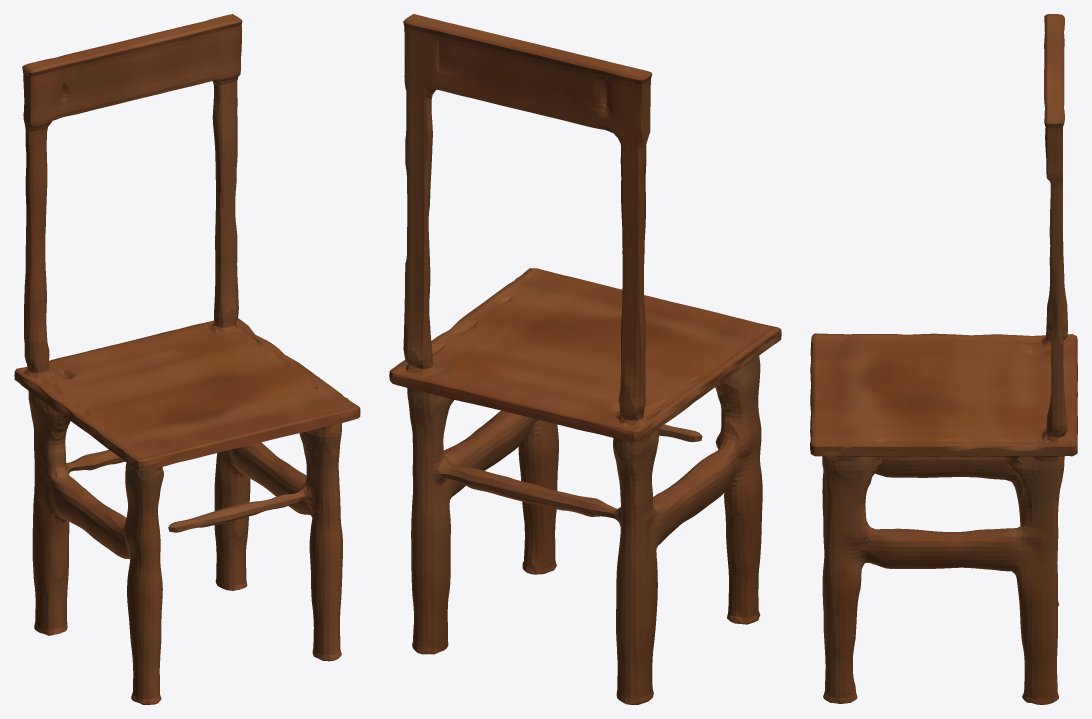
File: openworld_api_mesh.glb
3 views of the same model, side by side, from view 1: azimuth 30°, elevation 25°; view 2: azimuth 150°, elevation 25°; view 3: azimuth 270°, elevation 25° (orthographic). The views are drawn at different scales.
Visible parts, largest first — view 1: geometry_0; view 2: geometry_0; view 3: geometry_0.
Boxes of the visible parts, left/top/right/bottom form: geometry_0: left=14, top=14, right=360, bottom=704; geometry_0: left=389, top=14, right=781, bottom=704; geometry_0: left=810, top=14, right=1077, bottom=704.
Bounding box in the file's own units: 0.6648 × 1.6 × 0.664.
